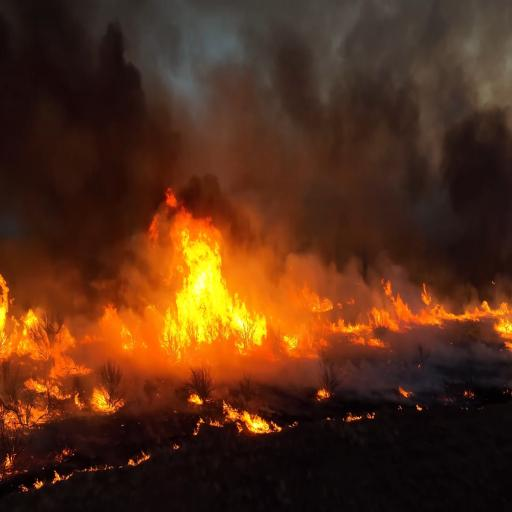fire: (149, 198, 264, 357), (0, 277, 73, 430)
smoke: (271, 11, 512, 298), (0, 0, 113, 282)
